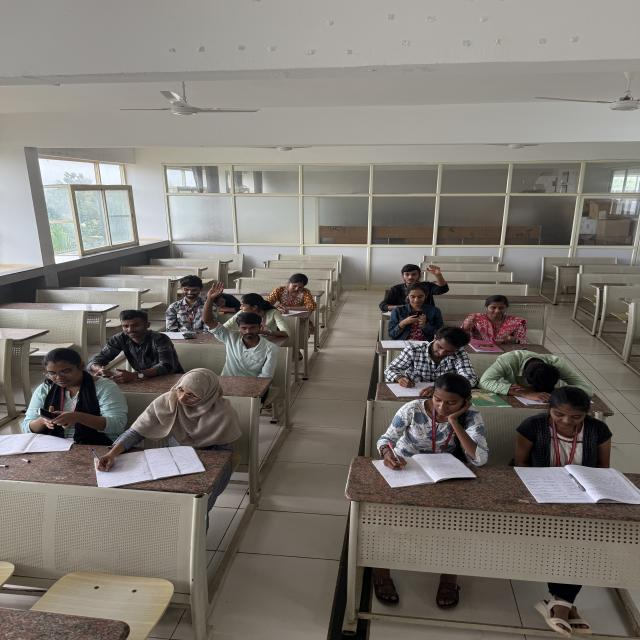Hand Rising: (202, 282, 284, 374), (384, 252, 456, 303)
Reading: (513, 388, 637, 474)
Sleeping: (481, 349, 604, 401), (213, 273, 244, 316)
Using Phone: (24, 344, 135, 441), (90, 295, 183, 386), (472, 290, 544, 348), (373, 283, 448, 327)
Writing: (86, 371, 263, 488), (370, 381, 501, 494), (382, 328, 479, 402), (273, 268, 323, 322)
